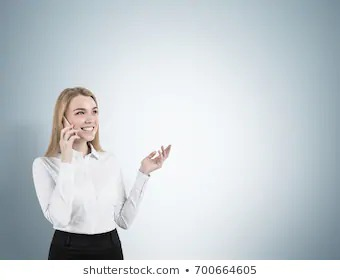F_shirt: (25, 143, 151, 232)
